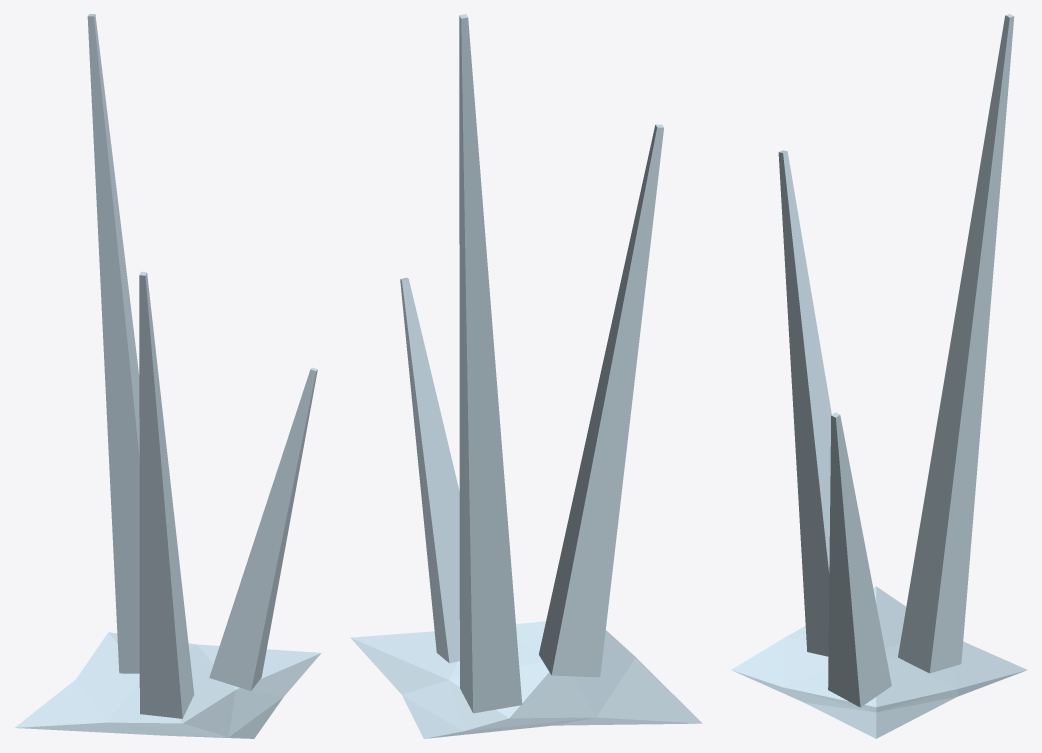
File: ice_shard_v03.glb
The picture shows the model from 3 angles, left to right: view 1: azimuth 30°, elevation 25°; view 2: azimuth 150°, elevation 25°; view 3: azimuth 270°, elevation 25°; orthographic projection. The views are drawn at different scales.
Visible parts, largest first — view 1: lod0; view 2: lod0; view 3: lod0.
Boxes of the visible parts, left/top/right/bottom form: lod0: left=14, top=14, right=321, bottom=738; lod0: left=350, top=14, right=702, bottom=738; lod0: left=731, top=14, right=1027, bottom=738.
Size of what is drawn, in the model's own units: 0.7918 by 1.64 by 0.6505.
